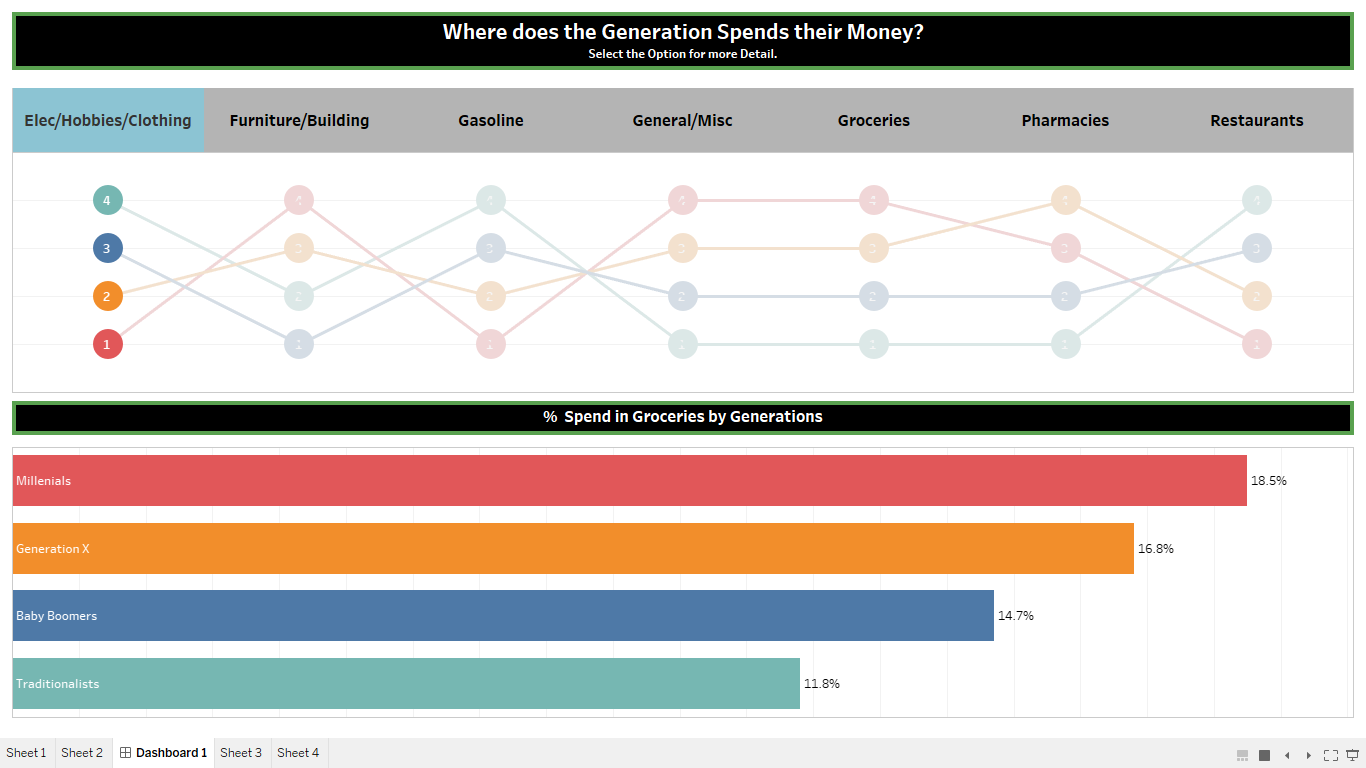

The dashboard page shown, as its layout file describes it:
{"tool":"tableau","page":{"name":"Dashboard 1","canvas":[1000,1000],"units":"permille","ordinal":0},"visuals":[{"type":"worksheet","title":"Sheet 3","mark":"Automatic","box":[6.9,13.3,986.1,102.9]},{"type":"worksheet","title":"Sheet 1","mark":"Line","cols":["Category"],"box":[6.9,116.2,986.1,421.9]},{"type":"worksheet","title":"Sheet 4","mark":"Automatic","box":[6.9,538.1,986.1,61.5]},{"type":"worksheet","title":"Sheet 2","mark":"Bar","rows":["Category","Generation"],"cols":["% of Spending","% of Spending"],"box":[6.9,599.5,986.1,387.2]}]}

Visuals, with their boxes on the dashboard's canvas, which has no fixed pixel size, in thousandths of its width and height (x1, y1, x2, y2). These are canvas units, not pixel positions in the 1366x768 screenshot, which may show the page scaled, cropped or inside an application window:
"Sheet 3" worksheet: 7/13/993/116
"Sheet 1" worksheet (Line marks): 7/116/993/538
"Sheet 4" worksheet: 7/538/993/600
"Sheet 2" worksheet (Bar marks): 7/600/993/987
